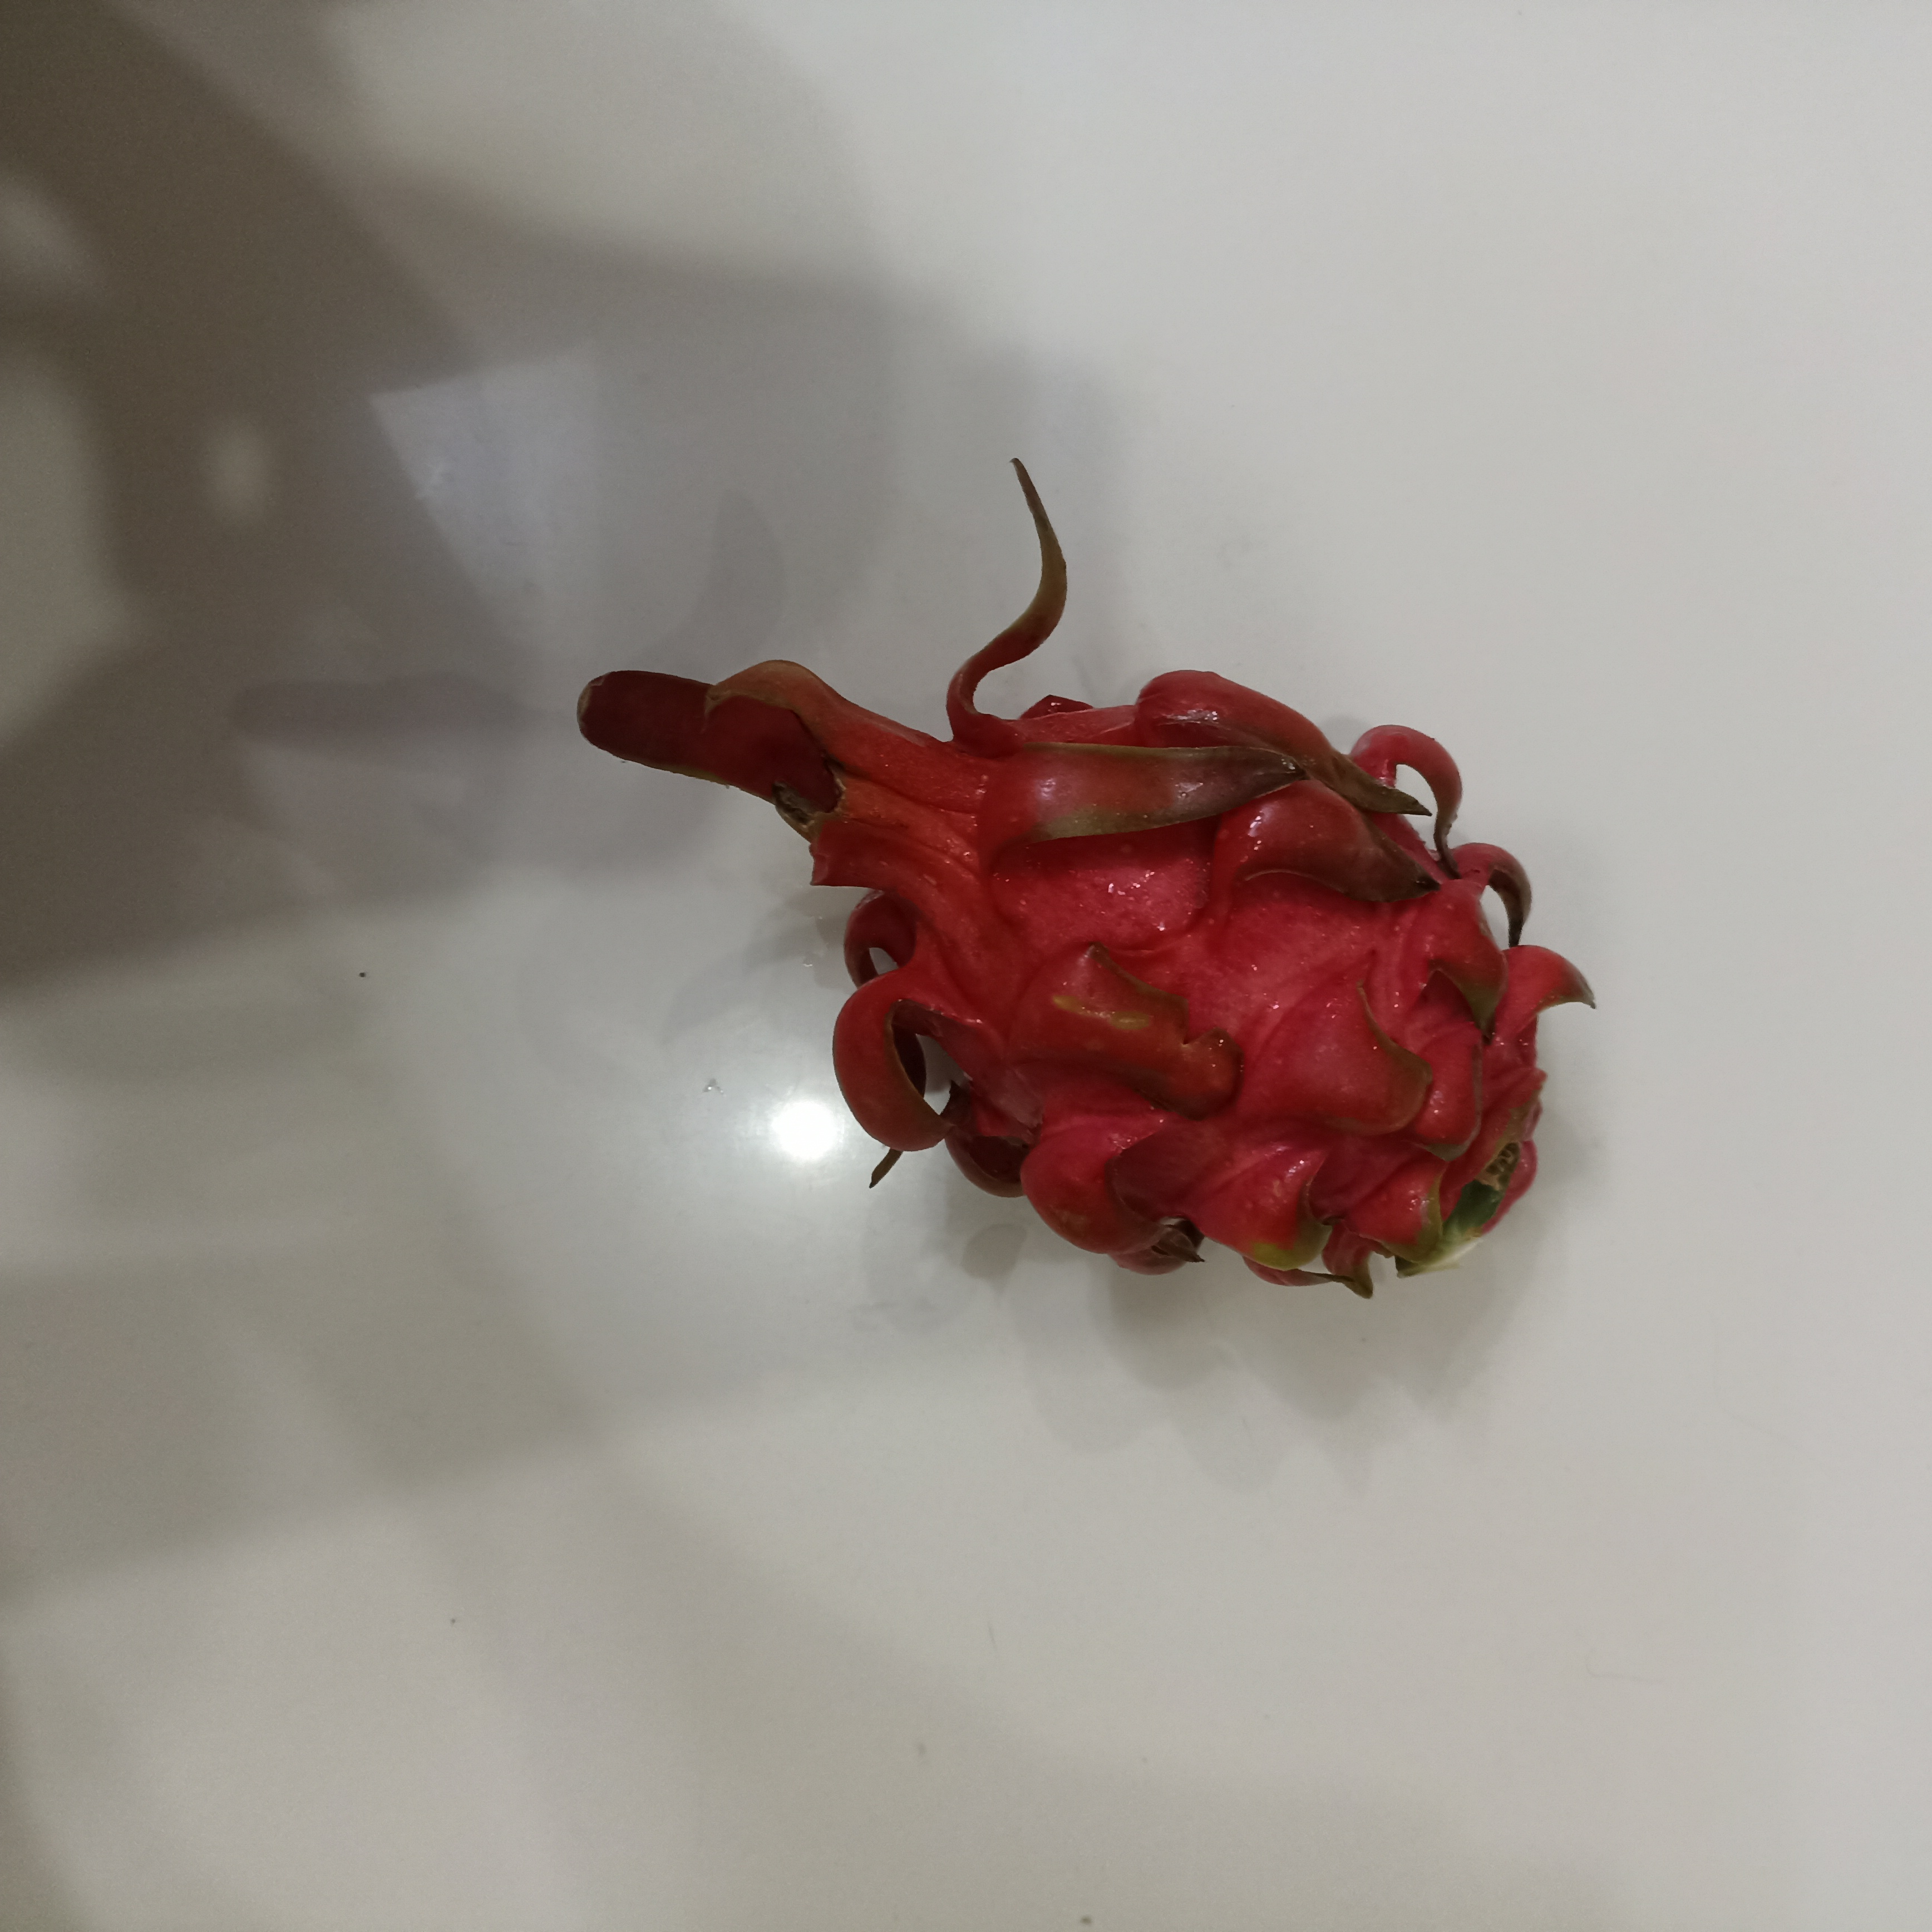Thanh long: (785, 673, 1564, 1291)
